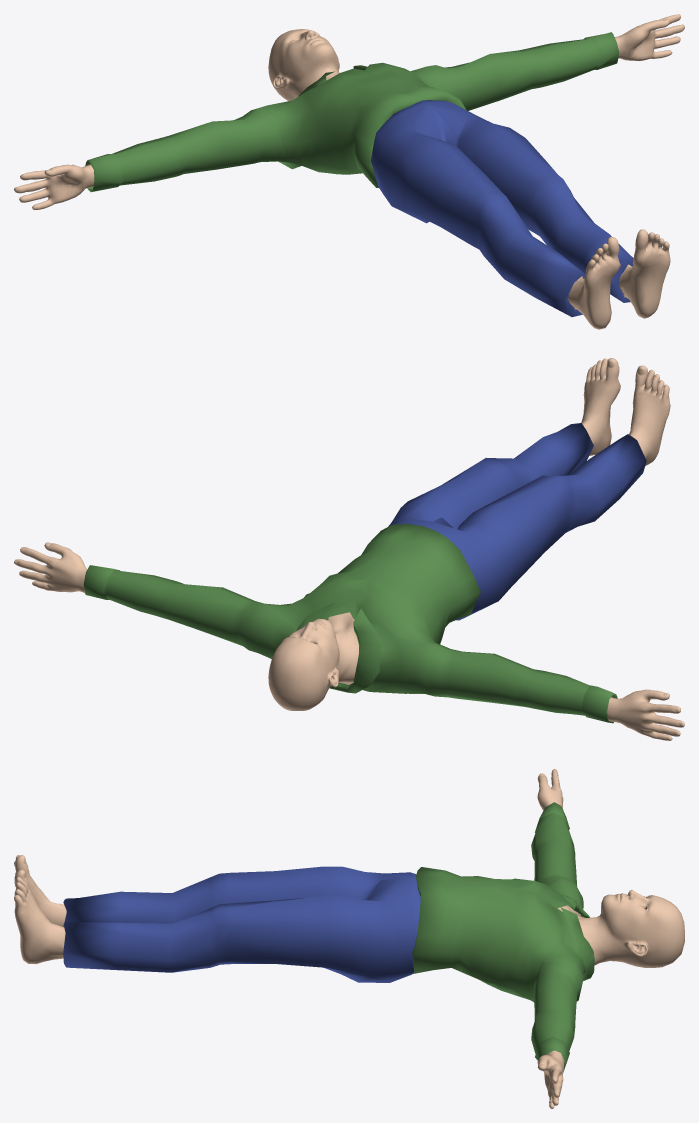
The model's file is victim_supine.dae.
3 views of the same model, one above another, from view 1: azimuth 30°, elevation 25°; view 2: azimuth 150°, elevation 25°; view 3: azimuth 270°, elevation 25° (orthographic). The views are drawn at different scales.
Parts seen in each view (by area): view 1: Static__6-mesh; view 2: Static__6-mesh; view 3: Static__6-mesh.
Part boxes in pixels (left/top/right/bottom): Static__6-mesh: left=14, top=14, right=684, bottom=329; Static__6-mesh: left=14, top=358, right=684, bottom=740; Static__6-mesh: left=14, top=769, right=684, bottom=1108.
Bounding box in the file's own units: 1.91 × 1.72 × 0.3372.
